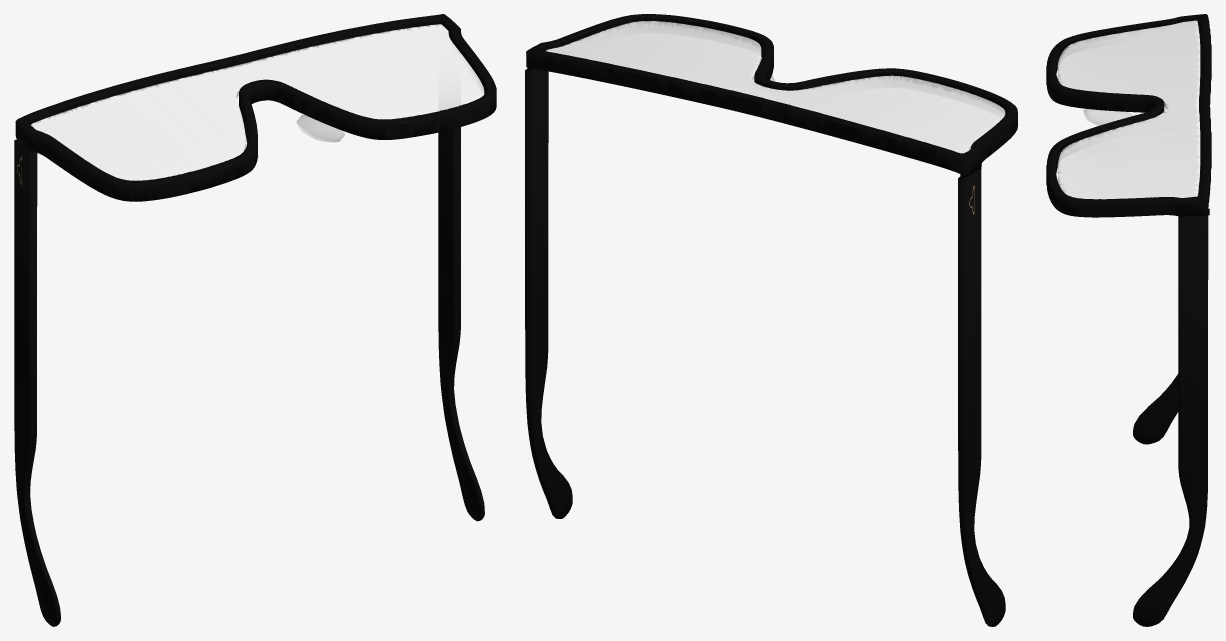
3 renders of one model, left to right at view 1: azimuth 30°, elevation 25°; view 2: azimuth 150°, elevation 25°; view 3: azimuth 270°, elevation 25°, orthographic. The views are drawn at different scales.
Visible parts, largest first — view 1: F06 lens 0, F06 front, F06 temple 0, F06 temple 1, F06 pad 1; view 2: F06 lens 0, F06 front, F06 temple 0, F06 temple 1; view 3: F06 lens 0, F06 temple 1, F06 front, F06 temple 0, F06 pad -1.
Part boxes in pixels (box(x1,y1,x2,y2)): F06 lens 0: box(31, 24, 484, 180); F06 front: box(15, 14, 496, 201); F06 temple 0: box(14, 139, 60, 626); F06 temple 1: box(438, 127, 484, 521); F06 pad 1: box(296, 114, 344, 142); F06 lens 0: box(545, 21, 1005, 153); F06 front: box(526, 14, 1017, 175); F06 temple 0: box(958, 169, 1005, 626); F06 temple 1: box(525, 69, 572, 518); F06 lens 0: box(1057, 20, 1200, 199); F06 temple 1: box(1133, 215, 1208, 626); F06 front: box(1046, 14, 1211, 217); F06 temple 0: box(1133, 35, 1202, 444); F06 pad -1: box(1083, 109, 1133, 125).
Size of the model in its own units: 0.1449 by 0.1575 by 0.0538.
5 materials, 1 textured.
